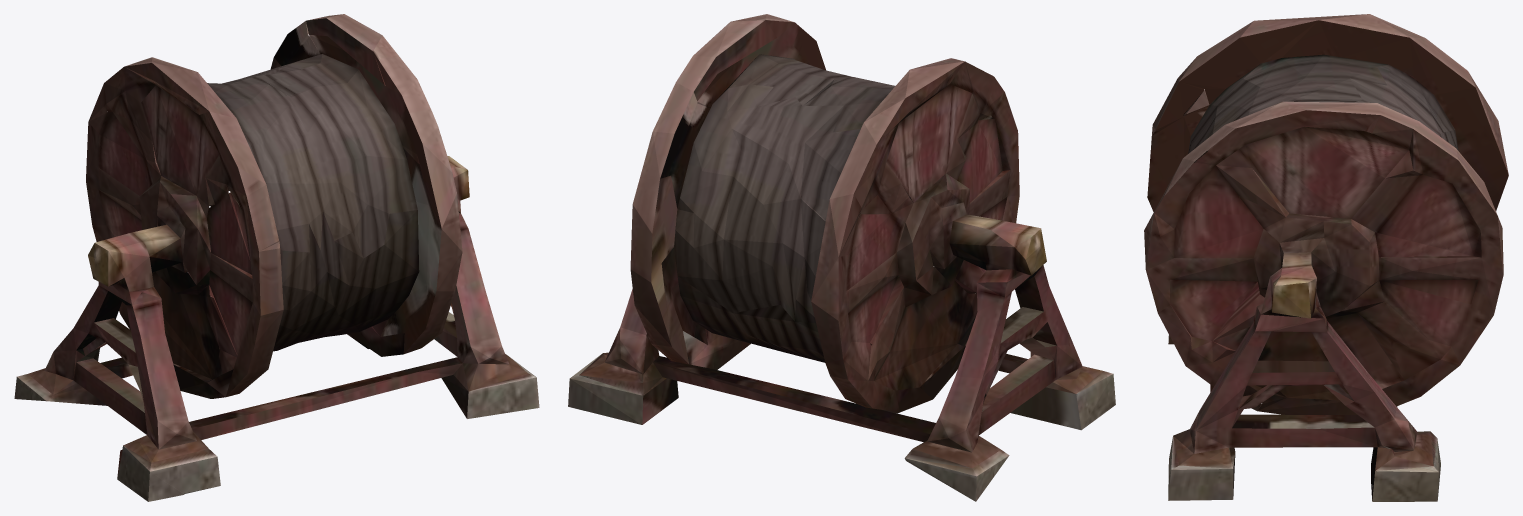
Rendered from park_cable_reel_1117.glb.
The picture shows the model from 3 angles, left to right: view 1: azimuth 30°, elevation 25°; view 2: azimuth 150°, elevation 25°; view 3: azimuth 270°, elevation 25°; orthographic projection. The views are drawn at different scales.
Parts seen in each view (by area): view 1: world; view 2: world; view 3: world.
Part boxes in pixels (x1,y1,x2,y2): world: [14, 14, 539, 501]; world: [568, 14, 1115, 501]; world: [1144, 14, 1508, 501].
Size of the model in its own units: 1.19 by 1 by 0.9449.
Materials: 1 (1 with a texture image).
